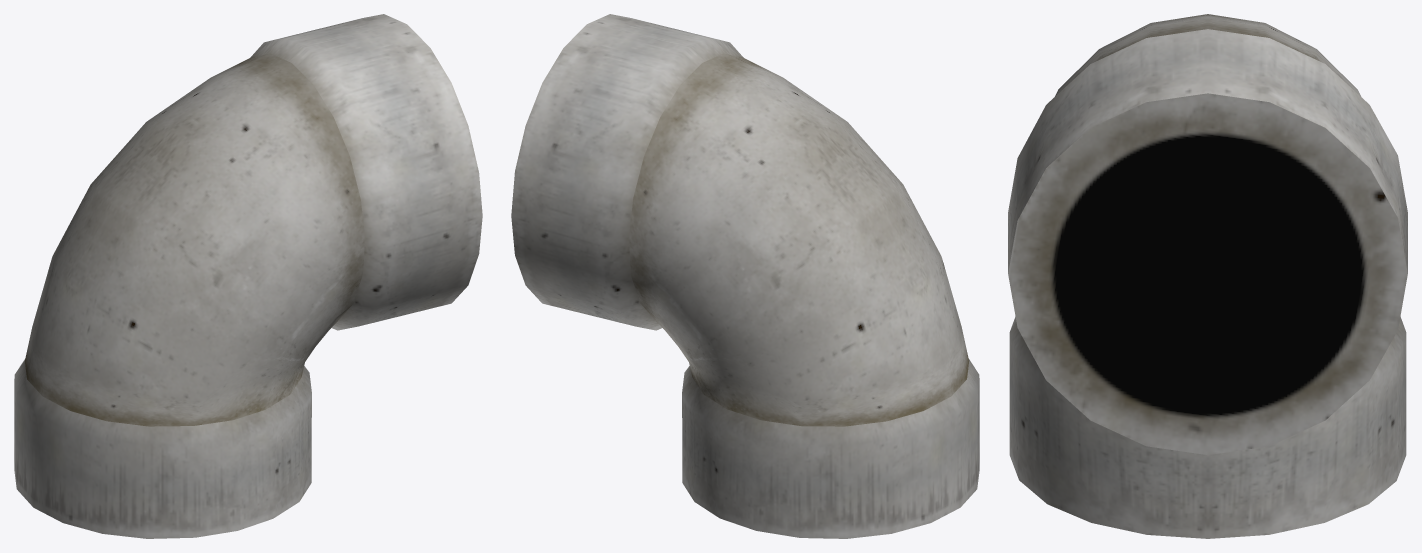
File: PlasticPipe_11a_snaps019.fbx
The picture shows the model from 3 angles, left to right: view 1: azimuth 30°, elevation 25°; view 2: azimuth 150°, elevation 25°; view 3: azimuth 270°, elevation 25°; orthographic projection. The views are drawn at different scales.
Parts seen in each view (by area): view 1: PlasticPipe_11a_snaps019_LOD0; view 2: PlasticPipe_11a_snaps019_LOD0; view 3: PlasticPipe_11a_snaps019_LOD0.
Part boxes in pixels (bbox=[...]): PlasticPipe_11a_snaps019_LOD0: bbox=[14, 14, 482, 538]; PlasticPipe_11a_snaps019_LOD0: bbox=[511, 14, 979, 538]; PlasticPipe_11a_snaps019_LOD0: bbox=[1008, 14, 1407, 538].
Size of what is drawn, in the model's own units: 38.25 by 38.34 by 26.71.
